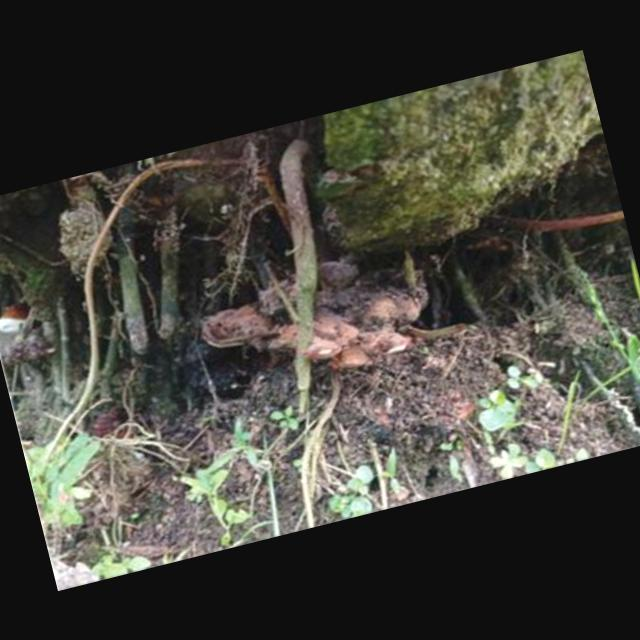ganoderma: (191, 235, 446, 407), (83, 402, 137, 449), (1, 299, 35, 340)
